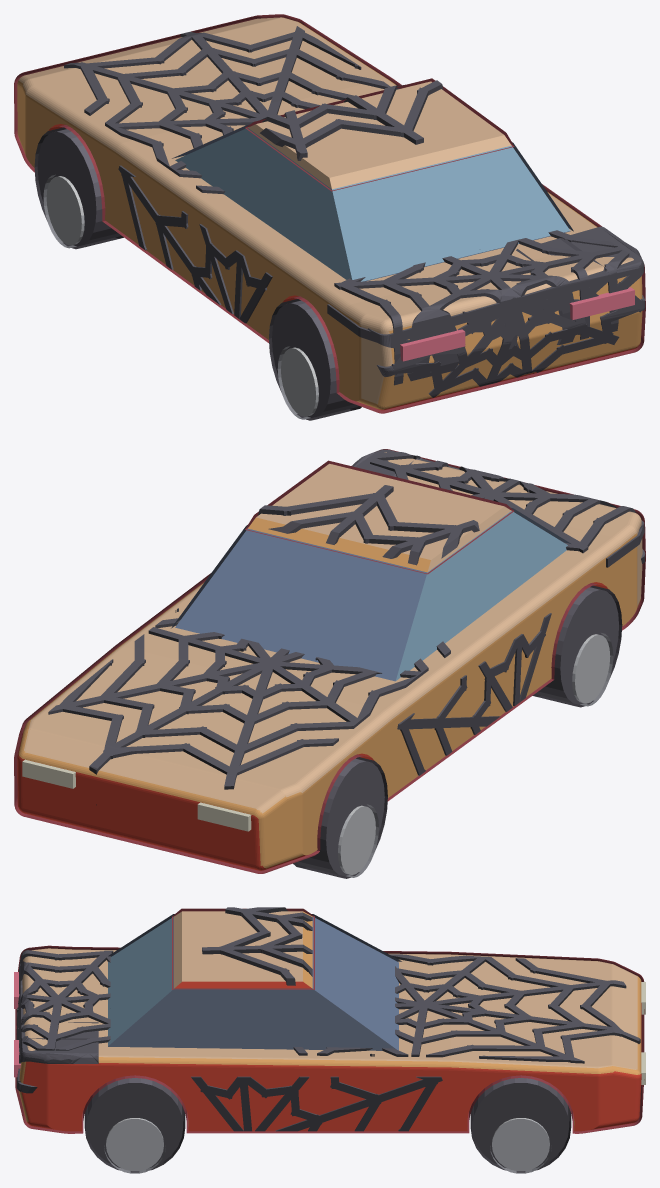
Rendered from car_brute_4.glb.
3 renders of one model, top to bottom at view 1: azimuth 30°, elevation 25°; view 2: azimuth 150°, elevation 25°; view 3: azimuth 270°, elevation 25°, orthographic. The views are drawn at different scales.
Parts seen in each view (by area): view 1: car; view 2: car; view 3: car.
Part boxes in pixels (x1,y1,x2,y2): car: (14,14,645,420); car: (14,449,645,878); car: (14,907,645,1173).
Bounding box in the file's own units: 2.11 × 1.4 × 4.7.
